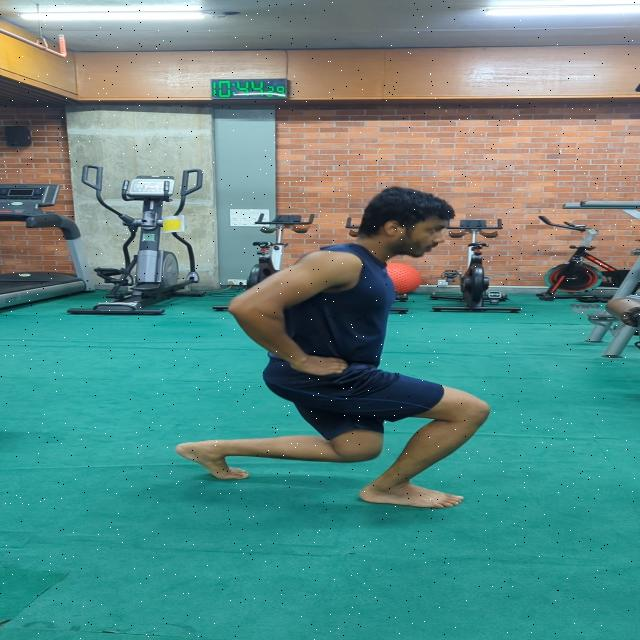Normal_Lunges: (172, 178, 495, 516)
